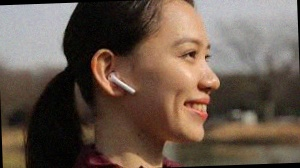earphone: (90, 48, 136, 98)
